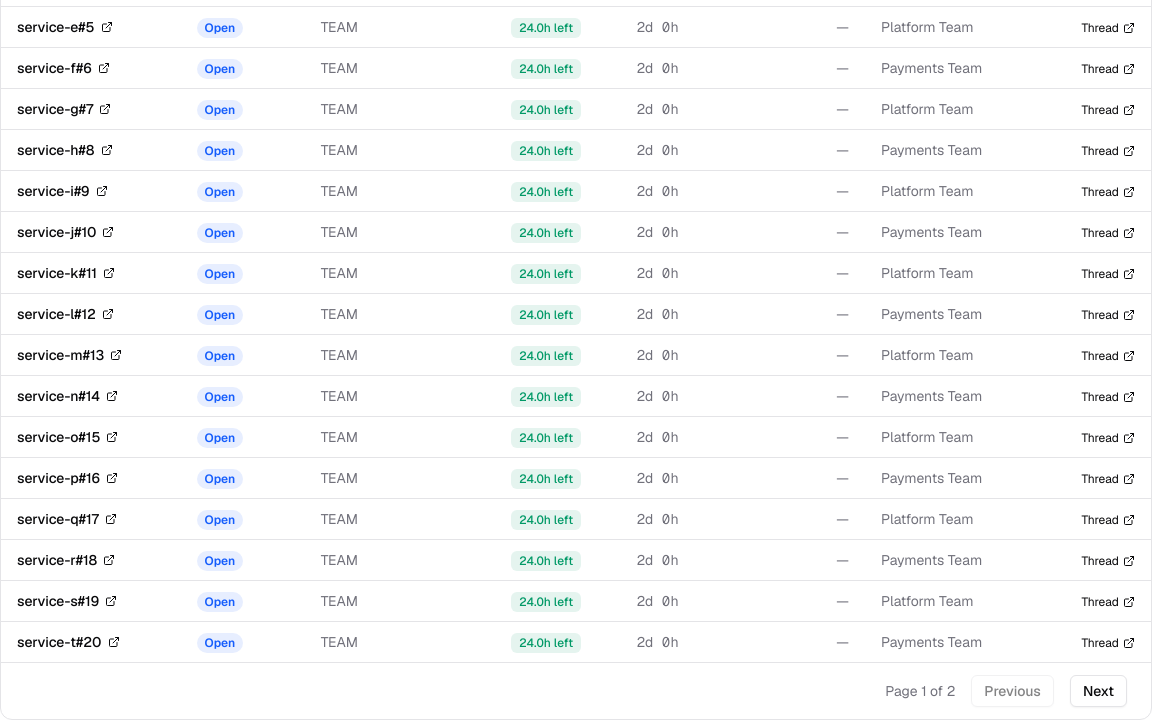
Test case: InFlightPrsTab › Pagination › should navigate to next page
This screenshot has width=1152, height=720.
(page scrolled)
Click the button "Next". click: (1098, 691)
box: [1070,675,1127,707]
(page scrolled)
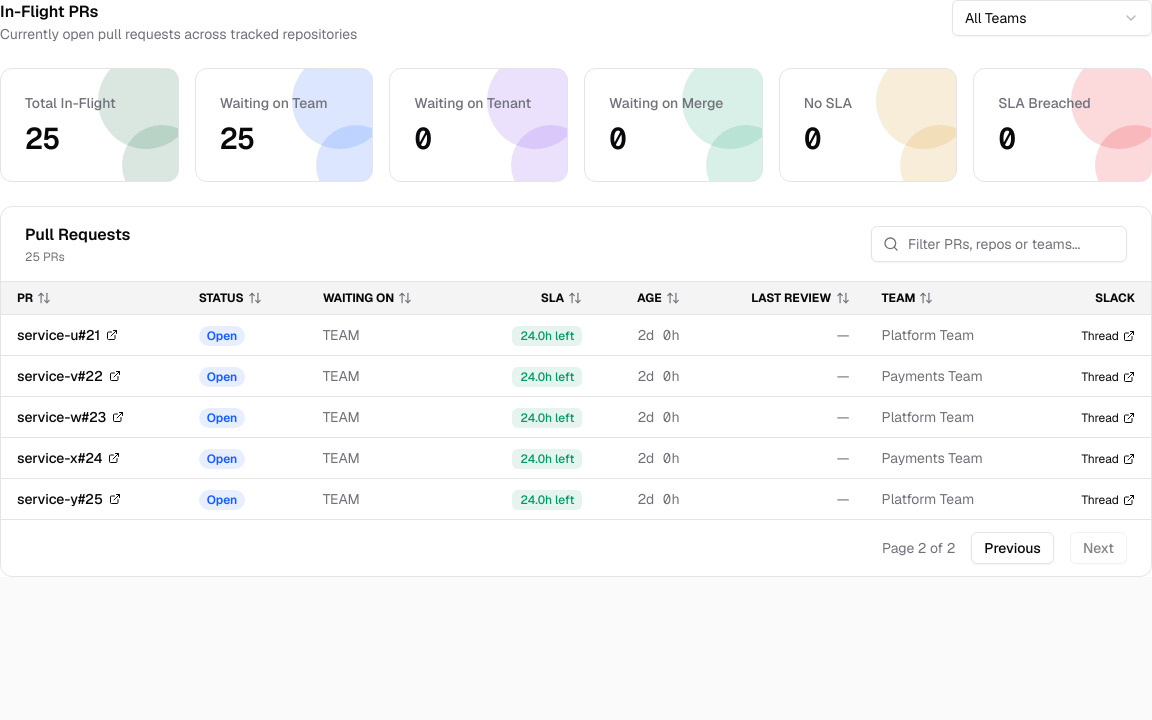
Result: the text "Page 2 of 2" is shown at [882,538,955,558]
